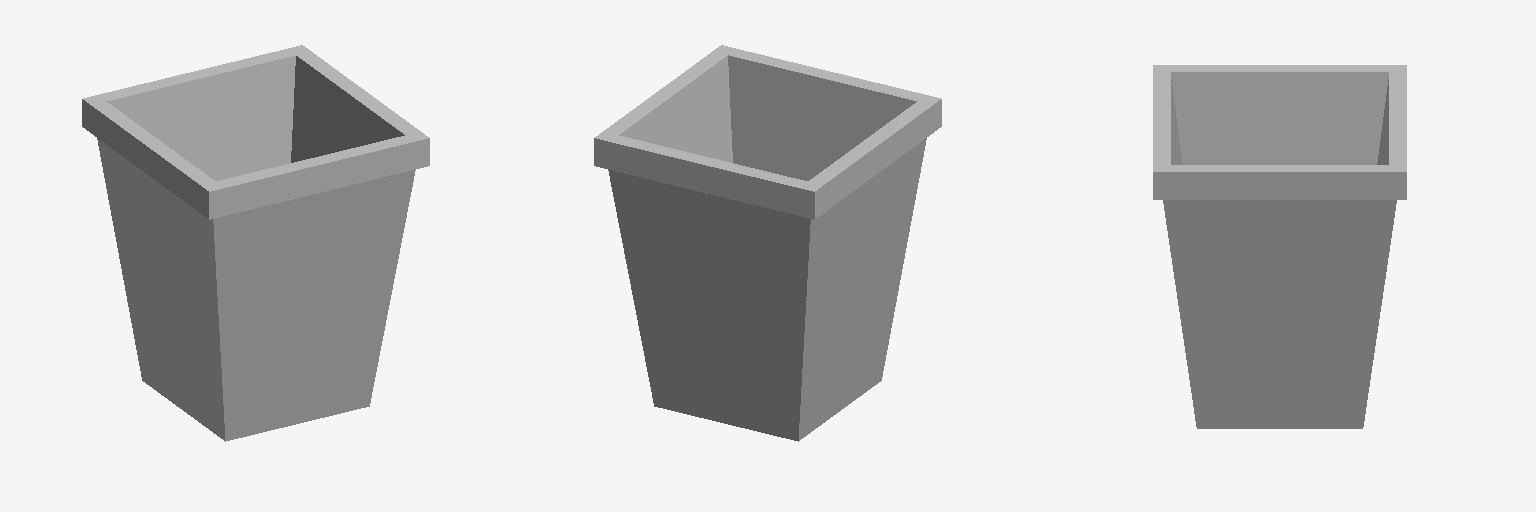
Rendered from Props_Dustbin.obj.
3 views of the same model, side by side, from view 1: azimuth 30°, elevation 25°; view 2: azimuth 150°, elevation 25°; view 3: azimuth 270°, elevation 25° (orthographic).
Visible parts, largest first — view 1: Props_Dustbin; view 2: Props_Dustbin; view 3: Props_Dustbin.
Part boxes in pixels (left/top/right/bottom): Props_Dustbin: left=82, top=45, right=429, bottom=441; Props_Dustbin: left=594, top=45, right=941, bottom=441; Props_Dustbin: left=1153, top=65, right=1406, bottom=428.
Bounding box in the file's own units: 36.75 × 43.81 × 36.75.